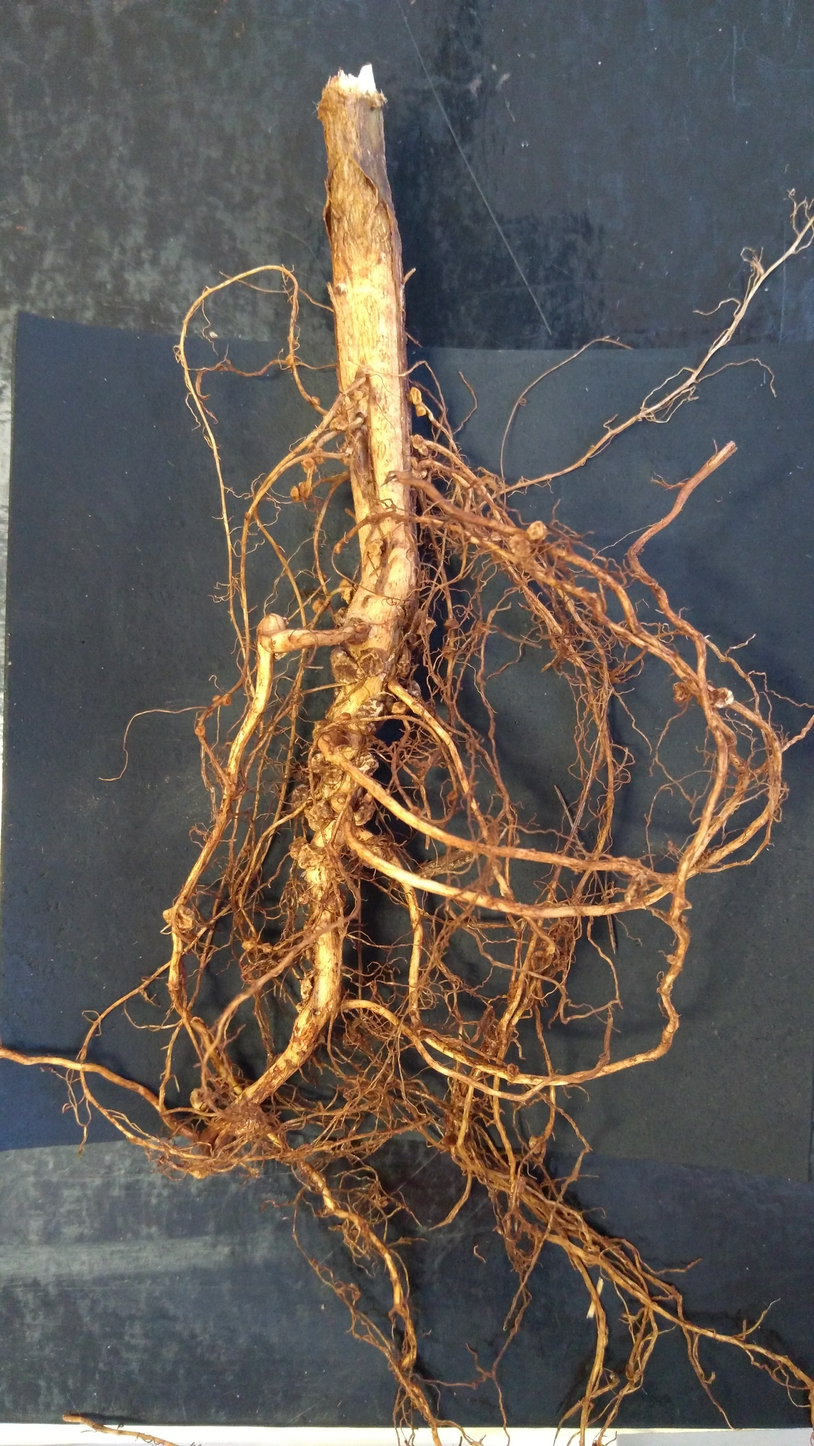nodule: (284, 833, 327, 872), (326, 646, 366, 687), (157, 901, 203, 934), (355, 697, 390, 736), (303, 798, 335, 835), (352, 790, 381, 828), (704, 683, 742, 712), (300, 863, 329, 900), (618, 872, 648, 907), (254, 609, 295, 634), (343, 613, 374, 646), (357, 648, 388, 680), (327, 792, 358, 824), (188, 1082, 218, 1115), (357, 843, 388, 873), (351, 750, 382, 779), (409, 607, 438, 637), (508, 529, 535, 560), (670, 679, 697, 708), (393, 645, 415, 678), (286, 784, 309, 815), (335, 576, 357, 606), (525, 517, 550, 542), (321, 763, 344, 787), (322, 891, 347, 912), (296, 976, 316, 1002), (365, 537, 386, 558), (527, 1134, 546, 1157), (328, 416, 352, 434), (439, 1131, 458, 1153), (330, 605, 349, 627), (404, 678, 423, 699), (290, 761, 308, 783), (389, 701, 413, 717), (298, 478, 315, 499), (504, 1062, 521, 1083), (238, 935, 258, 952), (410, 465, 430, 481), (409, 430, 424, 451), (310, 754, 327, 772), (410, 383, 423, 406), (312, 597, 329, 614), (442, 618, 463, 631), (441, 645, 459, 660), (347, 389, 366, 403), (417, 443, 432, 460), (663, 952, 681, 966), (289, 483, 301, 503), (296, 892, 311, 908), (488, 529, 503, 544), (300, 465, 321, 475), (193, 724, 210, 736), (314, 454, 328, 468), (414, 404, 429, 417), (307, 394, 322, 407), (258, 942, 273, 954), (408, 454, 419, 470), (677, 912, 690, 925), (445, 788, 458, 801), (333, 541, 344, 556), (410, 805, 421, 820), (284, 353, 295, 368), (299, 458, 315, 468), (221, 695, 233, 706), (302, 947, 312, 960), (306, 440, 317, 450), (209, 694, 221, 703)
